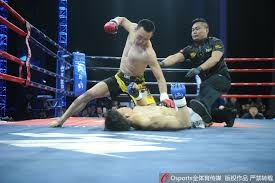falling: (105, 91, 221, 132)
